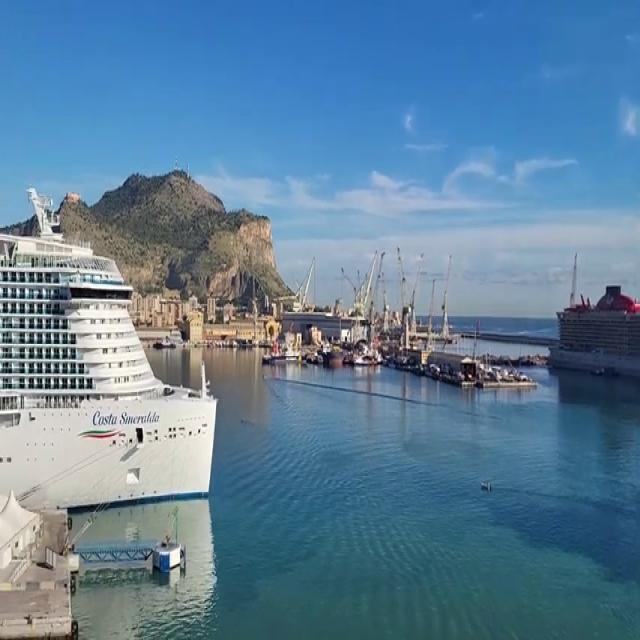passenger ship: (0, 226, 262, 497)
